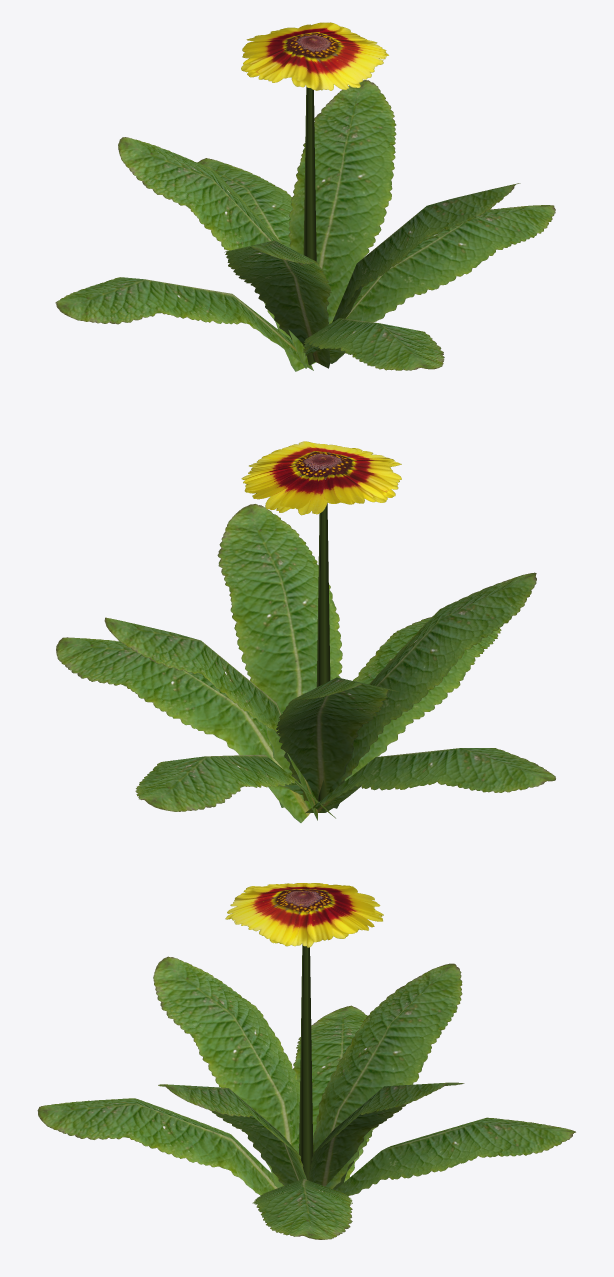
Rendered from flower plant5.FBX.
The picture shows the model from 3 angles, top to bottom: view 1: azimuth 30°, elevation 25°; view 2: azimuth 150°, elevation 25°; view 3: azimuth 270°, elevation 25°; orthographic projection. The views are drawn at different scales.
Visible parts, largest first — view 1: Cylinder001; view 2: Cylinder001; view 3: Cylinder001.
Part boxes in pixels (left/top/right/bottom): Cylinder001: left=55, top=22, right=555, bottom=371; Cylinder001: left=56, top=441, right=555, bottom=822; Cylinder001: left=37, top=883, right=575, bottom=1239.
Bounding box in the file's own units: 6.33 × 3.99 × 6.28.
